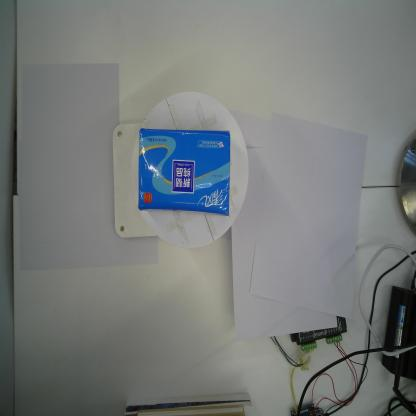Tissue: (138, 126, 230, 216)
